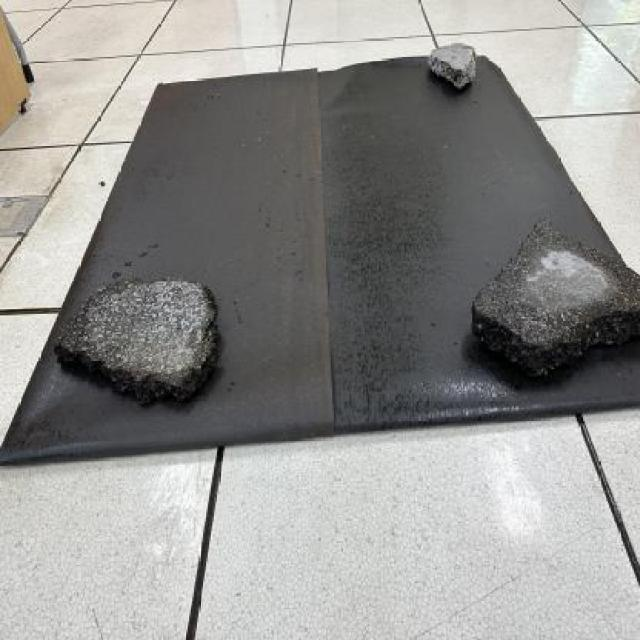Road Debris: (60, 288, 154, 363), (479, 270, 573, 342), (435, 46, 473, 76)
